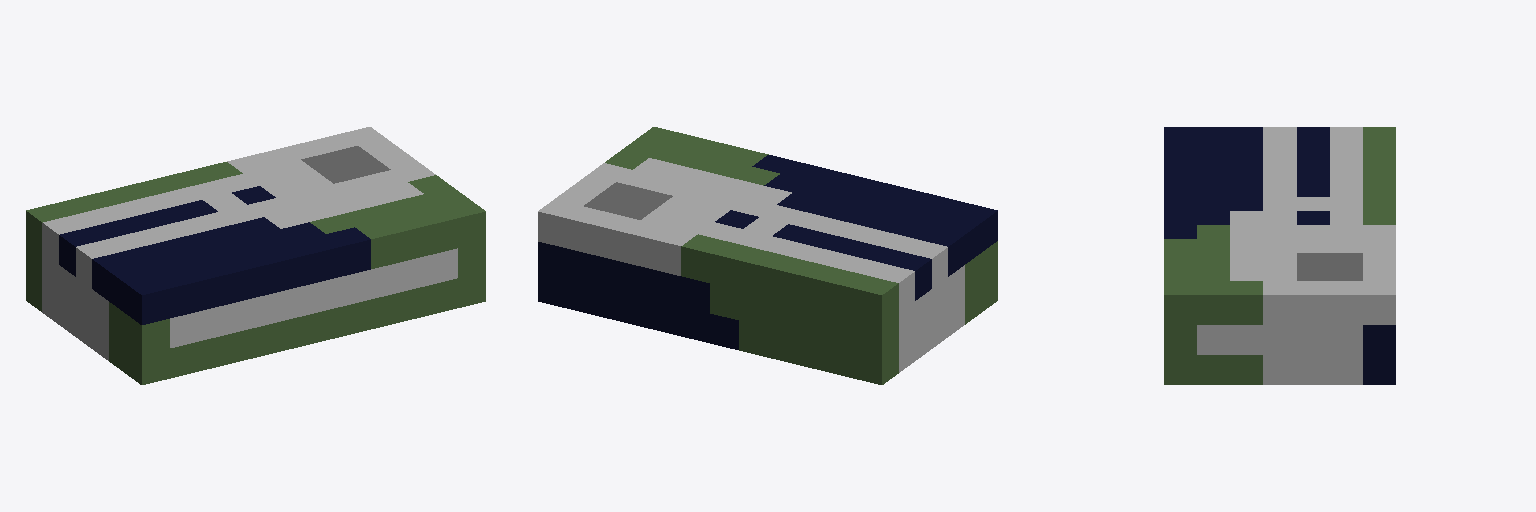
The picture shows the model from 3 angles: view 1: azimuth 30°, elevation 25°; view 2: azimuth 150°, elevation 25°; view 3: azimuth 270°, elevation 25°; orthographic projection.
Visible parts, largest first — view 1: object 1; view 2: object 1; view 3: object 1.
Boxes of the visible parts, x1=… form: object 1: x1=26, y1=127, x2=485, y2=384; object 1: x1=538, y1=127, x2=997, y2=384; object 1: x1=1164, y1=127, x2=1395, y2=384.
Size of the model in its own units: 1.2 by 0.3 by 0.7.
Materials: 1 (1 with a texture image).